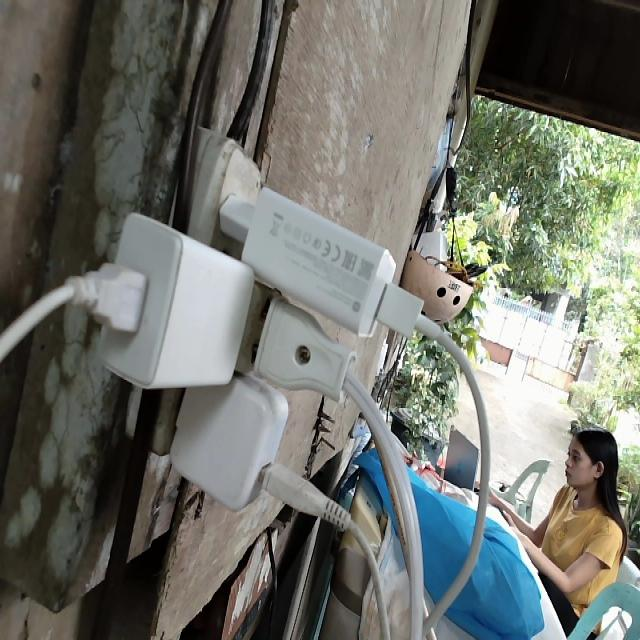-: (93, 137, 399, 516)
